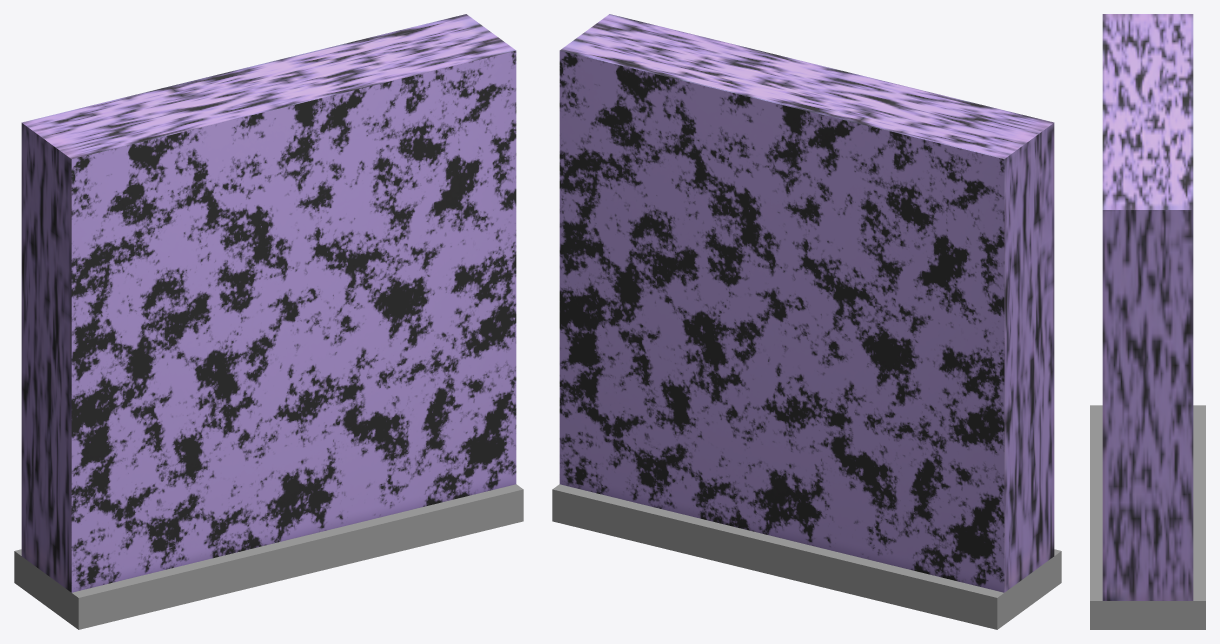
Rendered from Pared3.fbx.
3 views of the same model, side by side, from view 1: azimuth 30°, elevation 25°; view 2: azimuth 150°, elevation 25°; view 3: azimuth 270°, elevation 25° (orthographic). The views are drawn at different scales.
Parts seen in each view (by area): view 1: Pared.001; view 2: Pared.001; view 3: Pared.001.
Boxes of the visible parts, x1,y1,x2,y2 form: Pared.001: (14,14,523,629); Pared.001: (552,14,1061,629); Pared.001: (1090,14,1205,629).
Size of the model in its own units: 200 by 200 by 50.
